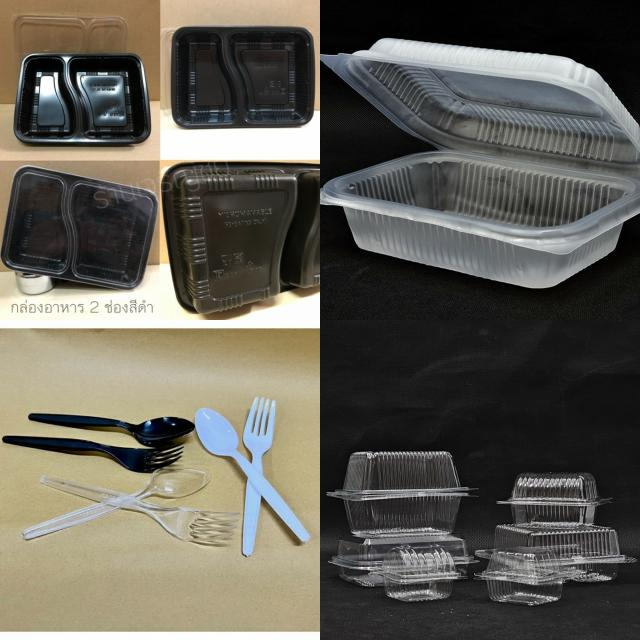Single-Use-Plastic: (321, 39, 640, 288), (162, 162, 320, 314), (1, 166, 158, 289), (195, 398, 310, 556), (468, 517, 636, 620), (22, 468, 239, 545), (195, 408, 310, 541), (171, 26, 315, 128), (15, 54, 150, 144), (328, 451, 469, 536), (2, 435, 184, 472), (29, 412, 195, 448), (498, 472, 611, 524), (380, 545, 459, 601)
